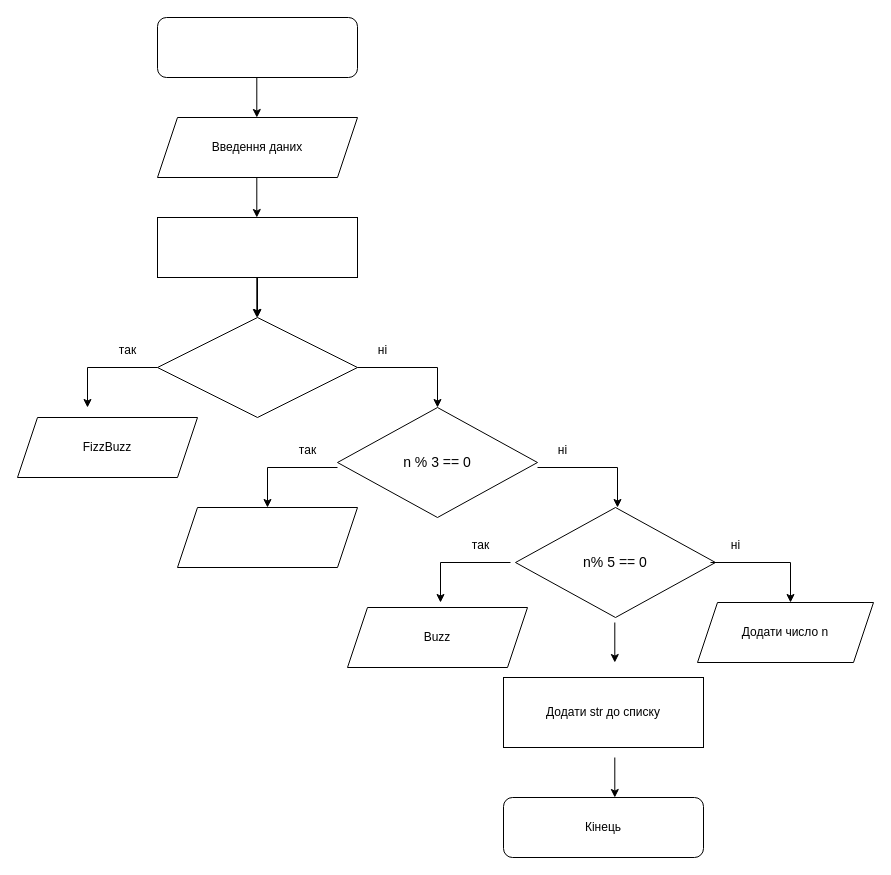
This 891x875 diagram has some shape labels left out. Here are the shapes that lost their labels. From the top down, the box of each, then its label:
(156, 16, 358, 78): Початок
(156, 216, 358, 278): Формування списку
(156, 316, 358, 418): n % 3 == 0 and n % 5 == 0
(176, 506, 358, 568): Fizz
